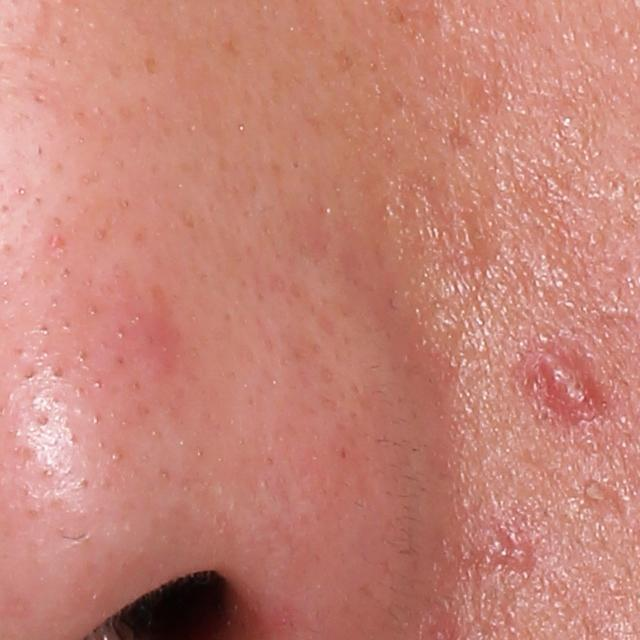papule: (535, 343, 609, 423), (504, 540, 533, 585)
